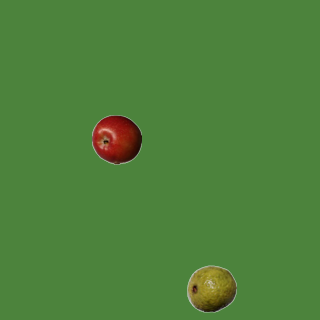Apple Braeburn: (91, 114, 141, 164)
Guava: (186, 263, 236, 313)
